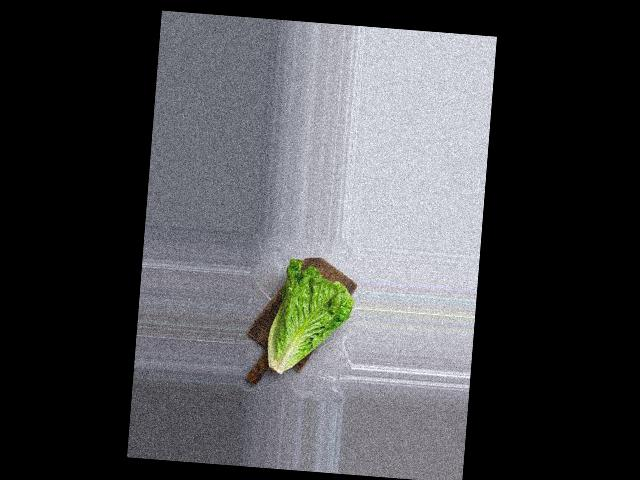lettuce: (253, 263, 354, 377)
